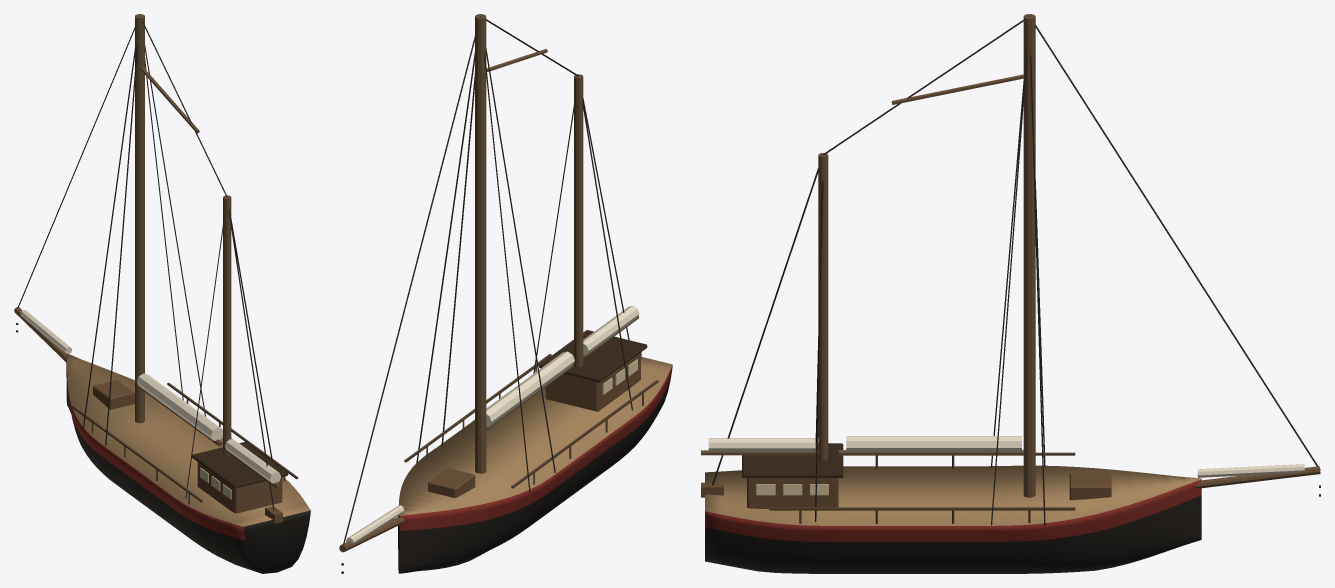
File: wooden.glb
The picture shows the model from 3 angles, left to right: view 1: azimuth 30°, elevation 25°; view 2: azimuth 150°, elevation 25°; view 3: azimuth 270°, elevation 25°; orthographic projection. The views are drawn at different scales.
Parts seen in each view (by area): view 1: hull, Cylinder, Cylinder.001, Cube, Cube.001, Cylinder.006, Cube.008, Cylinder.007, Cylinder.013, Cylinder.012, Cylinder.020, Cylinder.019 (+7 smaller); view 2: hull, Cylinder, Cylinder.001, Cube, Cube.001, Cylinder.006, Cylinder.009, Cube.008, Cylinder.007, Cylinder.019, Cylinder.013, Cylinder.012 (+8 smaller); view 3: hull, Cylinder, Cylinder.001, Cylinder.006, Cube.001, Cube, Cylinder.007, Cube.010, Cylinder.009, Cube.008, Cylinder.008, Cylinder.019 (+3 smaller).
Part boxes in pixels (bbox=[...]): hull: bbox=[66, 354, 310, 573]; Cylinder: bbox=[135, 14, 144, 423]; Cylinder.001: bbox=[223, 195, 231, 455]; Cube: bbox=[197, 462, 282, 513]; Cube.001: bbox=[192, 441, 288, 488]; Cylinder.006: bbox=[137, 373, 222, 440]; Cube.008: bbox=[93, 380, 134, 409]; Cylinder.007: bbox=[225, 439, 280, 483]; Cylinder.013: bbox=[105, 45, 137, 445]; Cylinder.012: bbox=[82, 48, 135, 430]; Cylinder.020: bbox=[145, 45, 205, 416]; Cylinder.019: bbox=[145, 58, 183, 400]; hull: bbox=[398, 356, 672, 573]; Cylinder: bbox=[475, 14, 486, 473]; Cylinder.001: bbox=[574, 74, 583, 366]; Cube: bbox=[545, 352, 640, 411]; Cube.001: bbox=[539, 330, 647, 382]; Cylinder.006: bbox=[486, 351, 574, 427]; Cylinder.009: bbox=[342, 16, 480, 548]; Cube.008: bbox=[428, 468, 475, 497]; Cylinder.007: bbox=[583, 305, 639, 355]; Cylinder.019: bbox=[416, 52, 474, 462]; Cylinder.013: bbox=[486, 48, 555, 472]; Cylinder.012: bbox=[484, 53, 530, 492]; hull: bbox=[705, 465, 1201, 573]; Cylinder: bbox=[1023, 14, 1035, 497]; Cylinder.001: bbox=[818, 153, 828, 460]; Cylinder.006: bbox=[846, 436, 1021, 452]; Cube.001: bbox=[742, 443, 843, 477]; Cube: bbox=[747, 478, 838, 509]; Cylinder.007: bbox=[708, 438, 815, 452]; Cube.010: bbox=[769, 507, 1075, 510]; Cylinder.009: bbox=[1029, 16, 1320, 469]; Cube.008: bbox=[1069, 473, 1111, 500]; Cylinder.008: bbox=[1197, 464, 1304, 477]; Cylinder.019: bbox=[1030, 55, 1045, 526].
Size of the model in its own units: 3.7 by 15.82 by 16.23.
